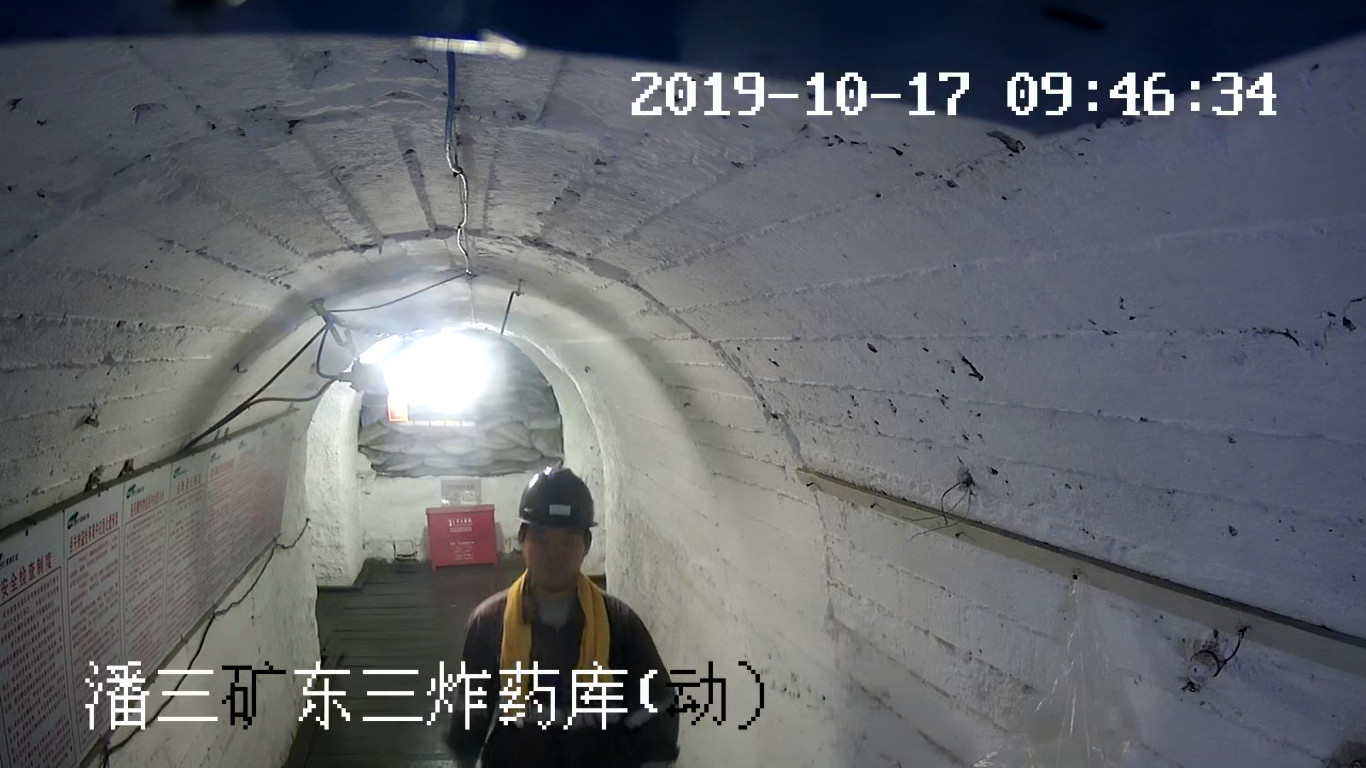helmet: (518, 466, 597, 528)
